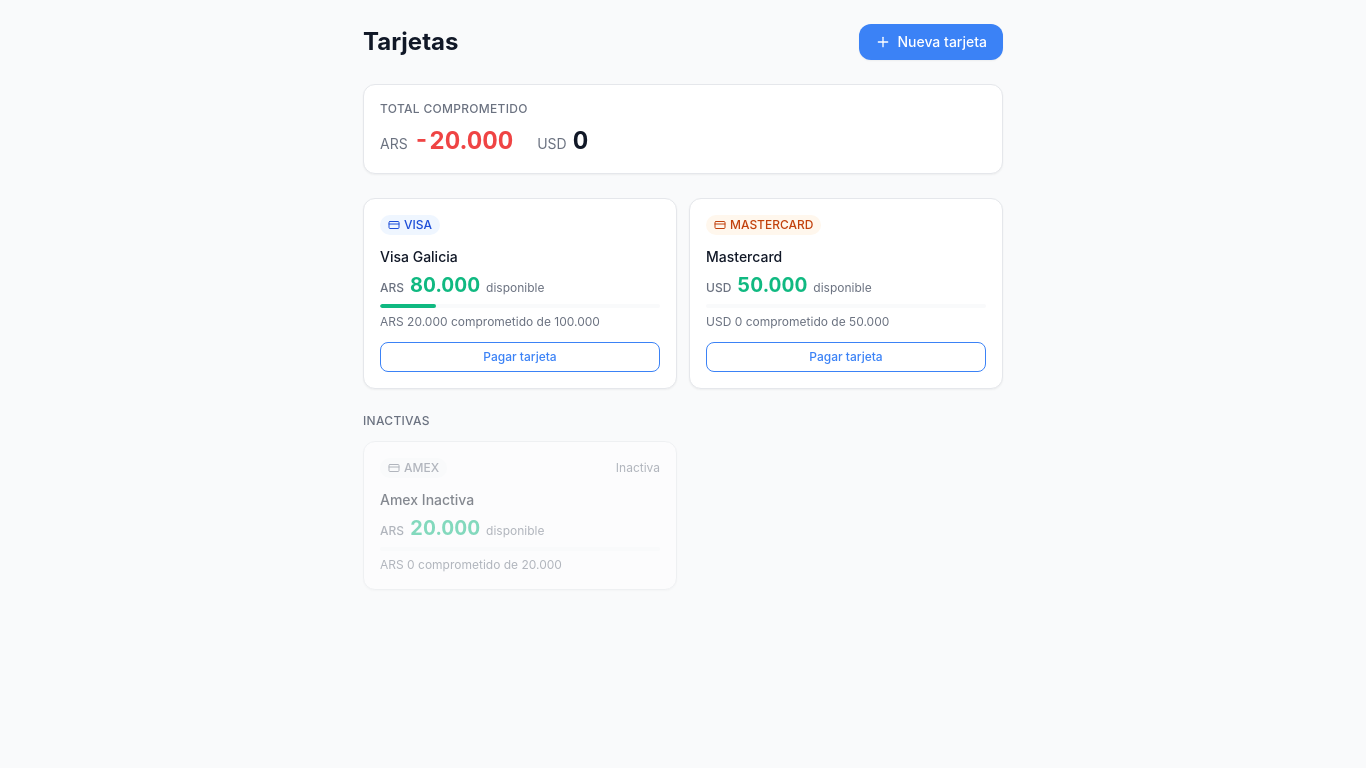
Test case: Cards › nueva tarjeta form › opens form on nueva tarjeta click
Click the button "Nueva tarjeta": point(931, 42) [859,24,1003,60]
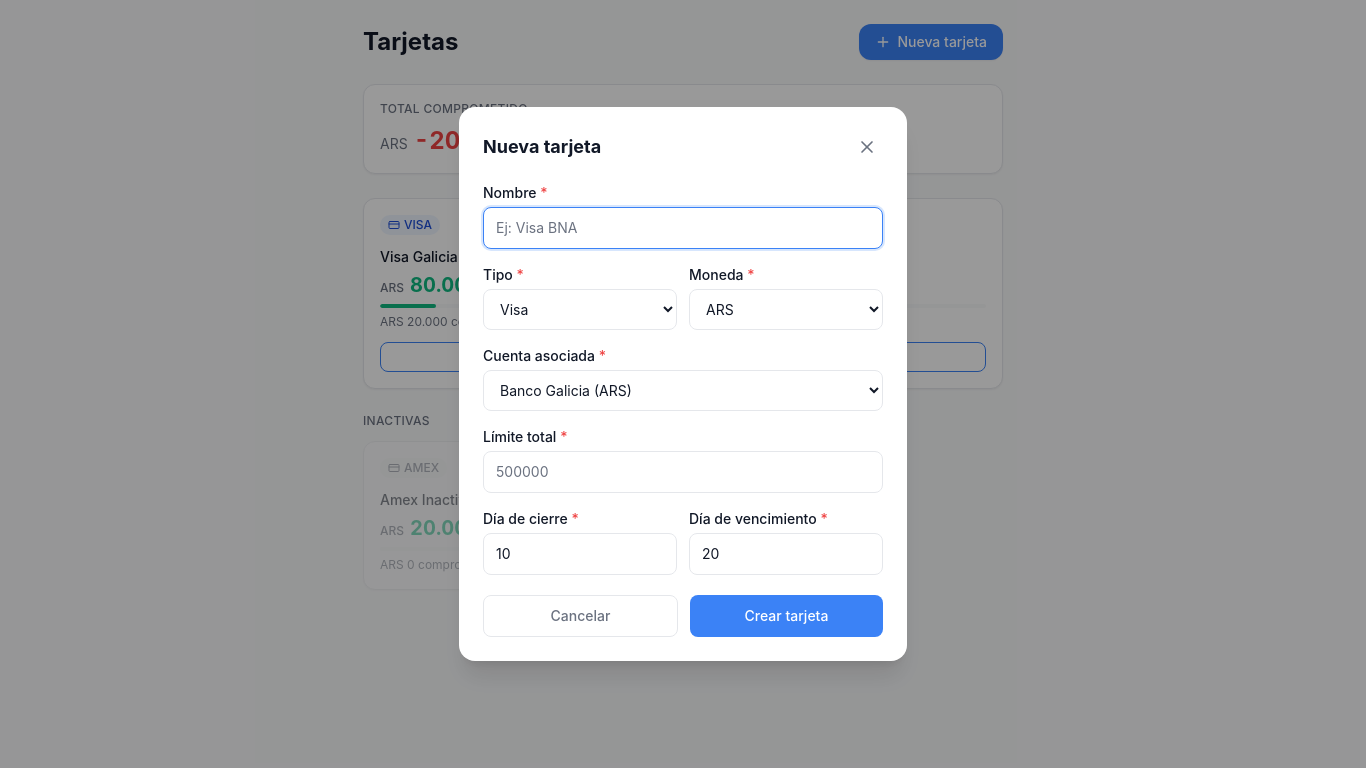
Check: the heading "Nueva tarjeta" is shown, box [483,133,601,161]
